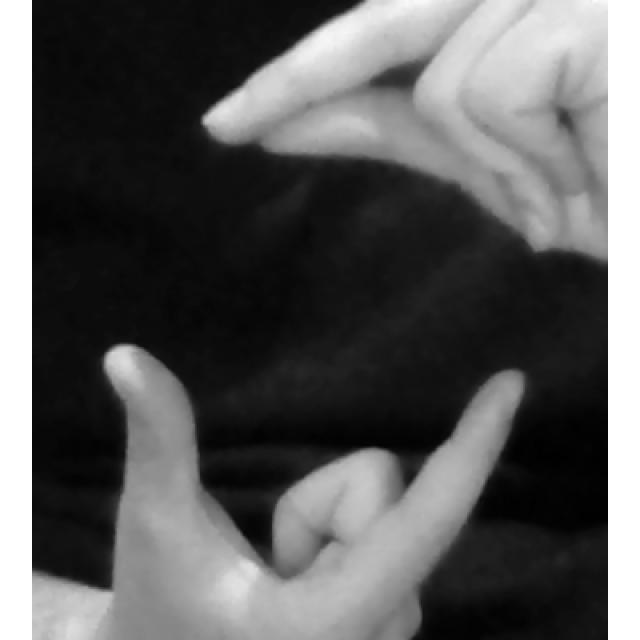U--: (102, 42, 534, 640)
